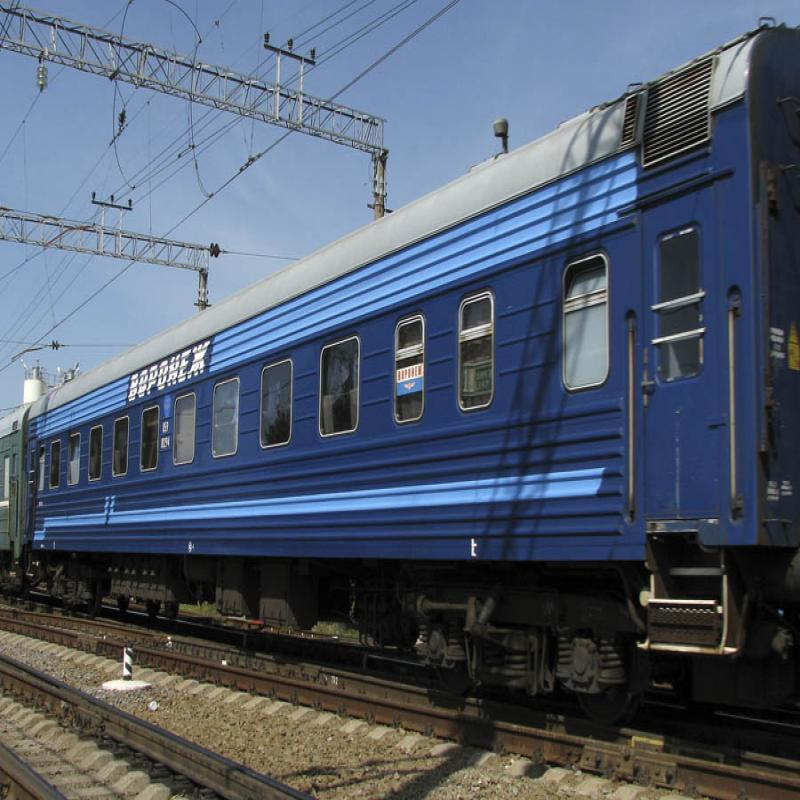train: (25, 6, 797, 711)
